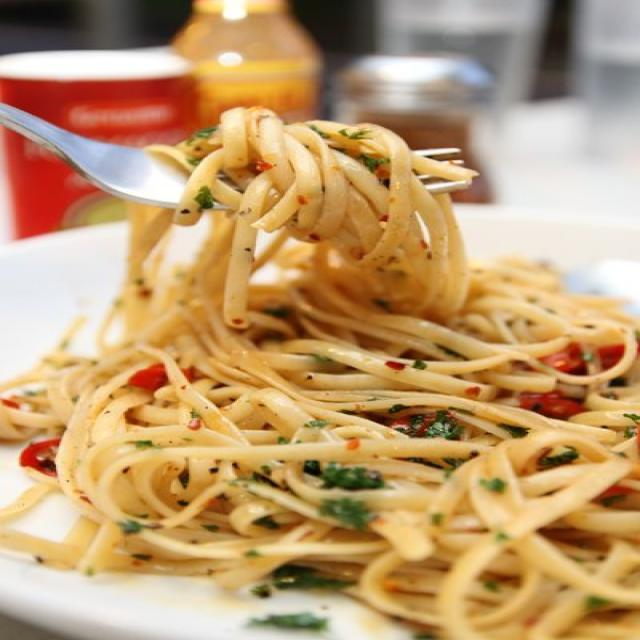Oil pasta: (115, 106, 624, 576)
